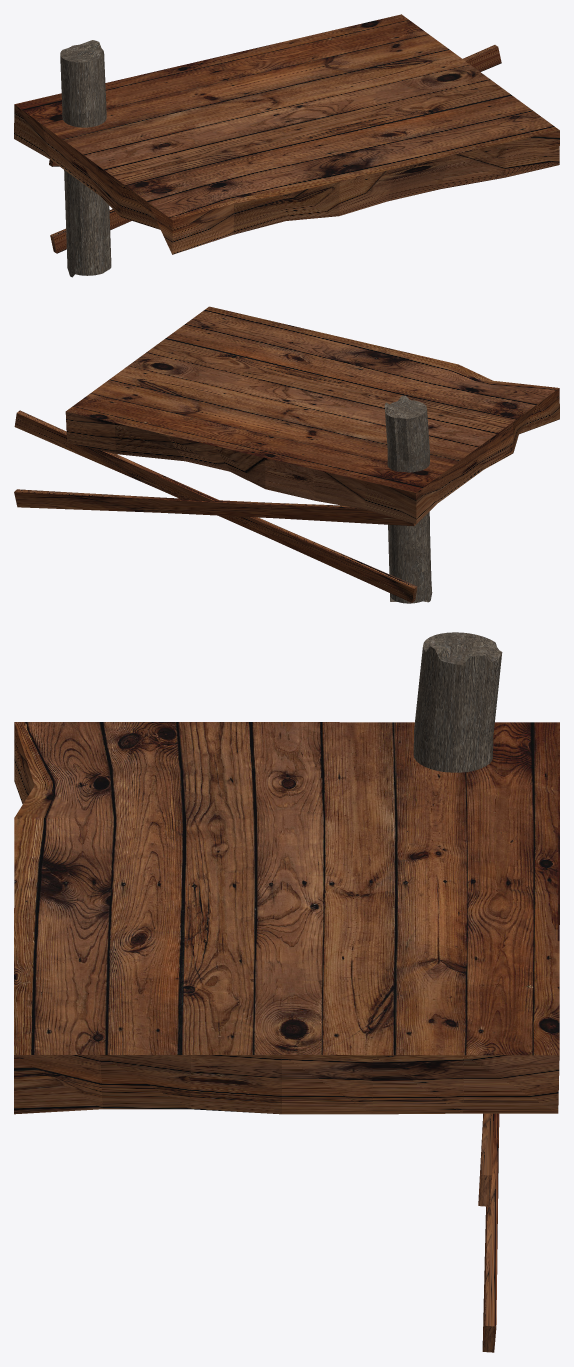
The model's file is docks-right.fbx.
3 renders of one model, top to bottom at view 1: azimuth 30°, elevation 25°; view 2: azimuth 150°, elevation 25°; view 3: azimuth 270°, elevation 25°, orthographic. The views are drawn at different scales.
Parts seen in each view (by area): view 1: Cube, Cylinder, Cube.001; view 2: Cube, Cube.001, Cube.002, Cylinder; view 3: Cube, Cylinder, Cube.002, Cube.001.
Boxes of the visible parts, x1=… form: Cube: x1=14, y1=14, x2=559, y2=254; Cylinder: x1=60, y1=40, x2=111, y2=277; Cube.001: x1=50, y1=45, x2=501, y2=253; Cube: x1=65, y1=306, x2=559, y2=524; Cube.001: x1=14, y1=410, x2=417, y2=602; Cube.002: x1=14, y1=489, x2=415, y2=526; Cylinder: x1=384, y1=395, x2=432, y2=603; Cube: x1=14, y1=722, x2=559, y2=1114; Cylinder: x1=413, y1=632, x2=502, y2=772; Cube.002: x1=482, y1=1113, x2=499, y2=1352; Cube.001: x1=478, y1=1113, x2=493, y2=1206.
Size of the model in its own units: 1373 by 632 by 812.
Materials: 4 (4 with a texture image).
